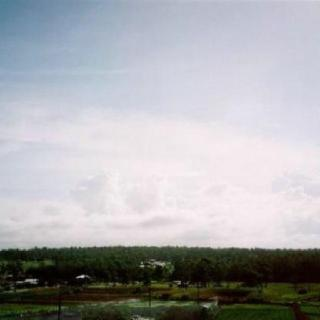Stratus: (0, 0, 320, 252)
